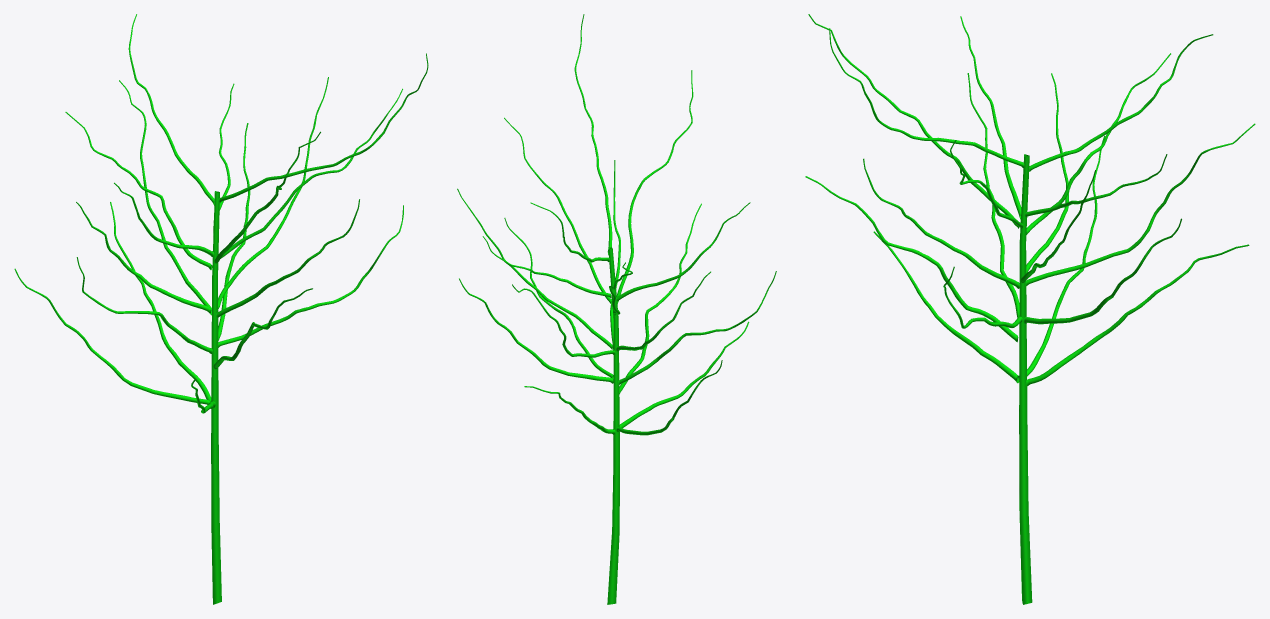
The model's file is LOD2Arbre2.gltf.
3 views of the same model, side by side, from view 1: azimuth 30°, elevation 25°; view 2: azimuth 150°, elevation 25°; view 3: azimuth 270°, elevation 25° (orthographic). The views are drawn at different scales.
Visible parts, largest first — view 1: grand_arbre3_LOD2; view 2: grand_arbre3_LOD2; view 3: grand_arbre3_LOD2.
Boxes of the visible parts, <box> form: grand_arbre3_LOD2: <box>14,14,428,604</box>; grand_arbre3_LOD2: <box>457,14,776,604</box>; grand_arbre3_LOD2: <box>805,14,1255,604</box>.
Size of the model in its own units: 12.35 by 21.54 by 13.76.
